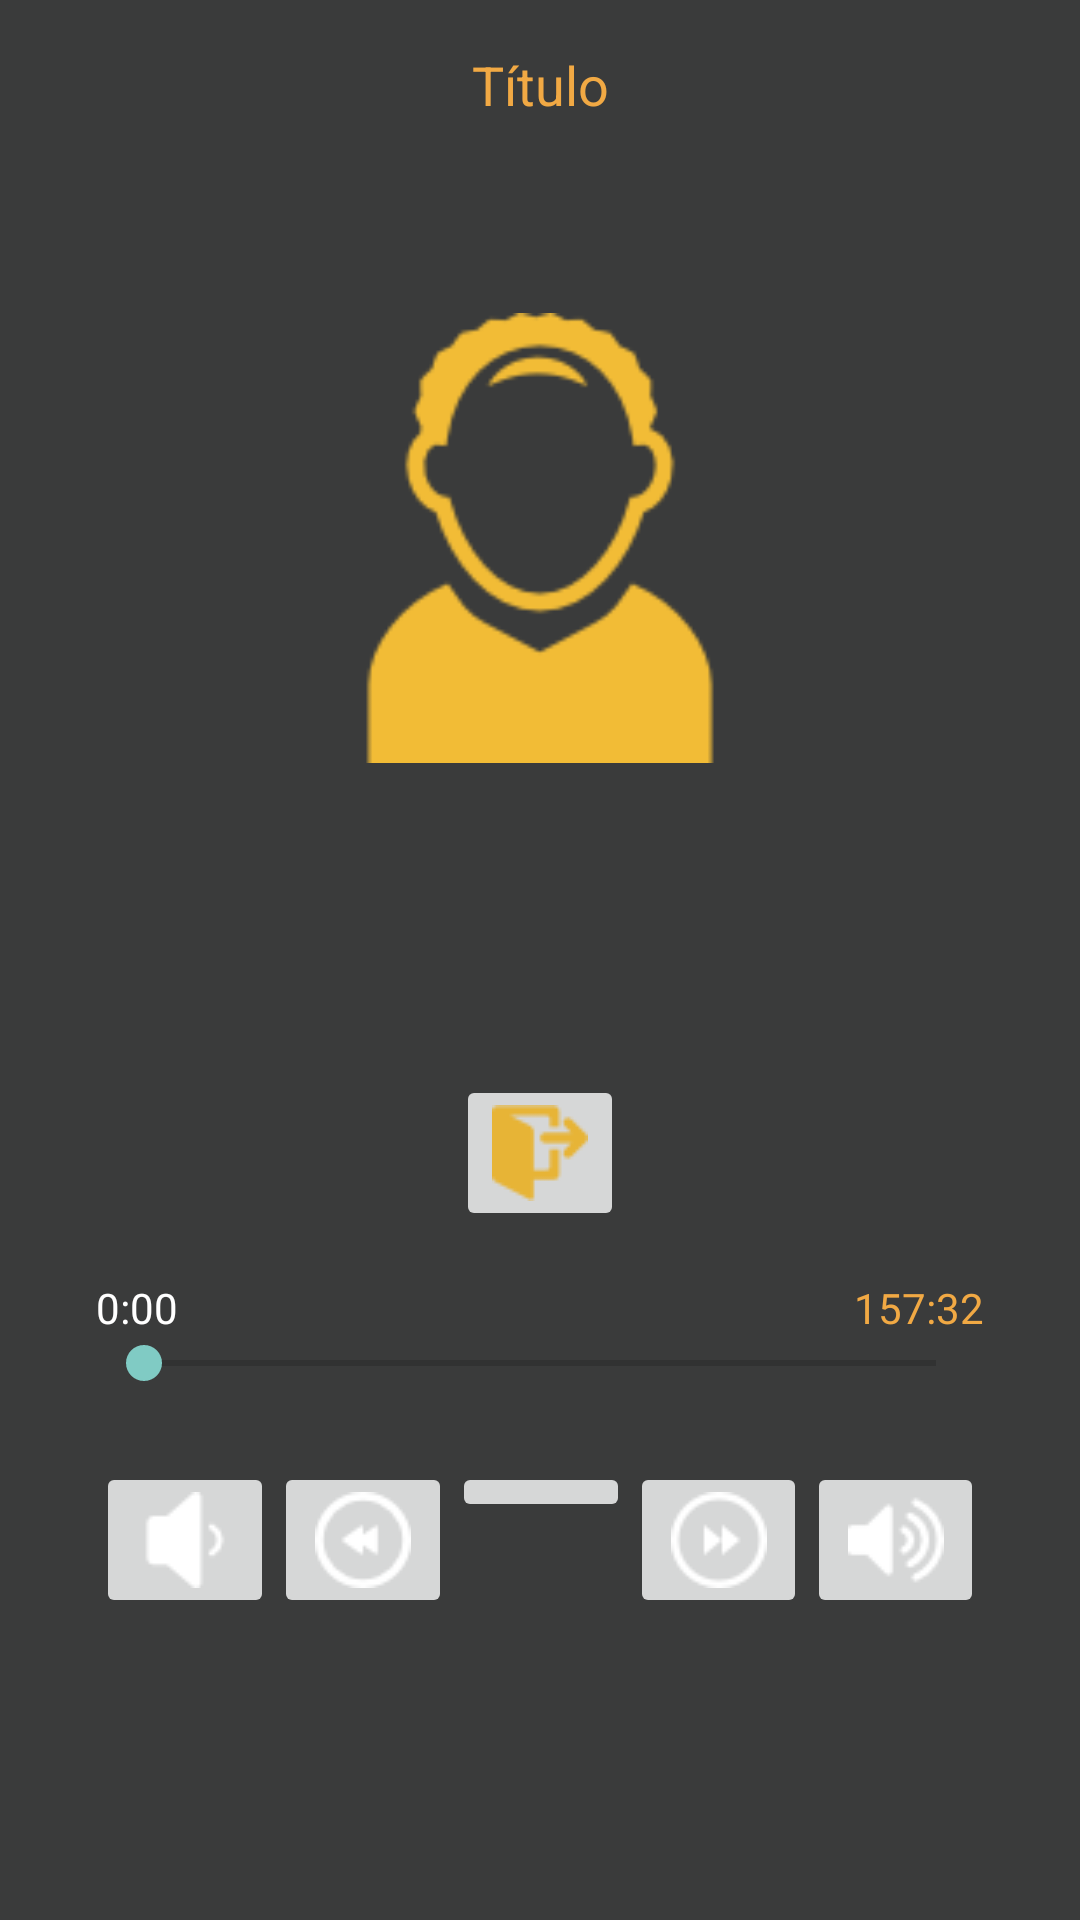

Locate icon controls on the screen. Image size 1080px x 1920px, boxes as (x1, y1, x2, y2).
avanzar: (642, 1480, 795, 1600)
bajar volumen: (108, 1480, 262, 1600)
retroceder: (286, 1480, 440, 1600)
salir: (468, 1093, 612, 1213)
subir volumen: (819, 1480, 972, 1600)
